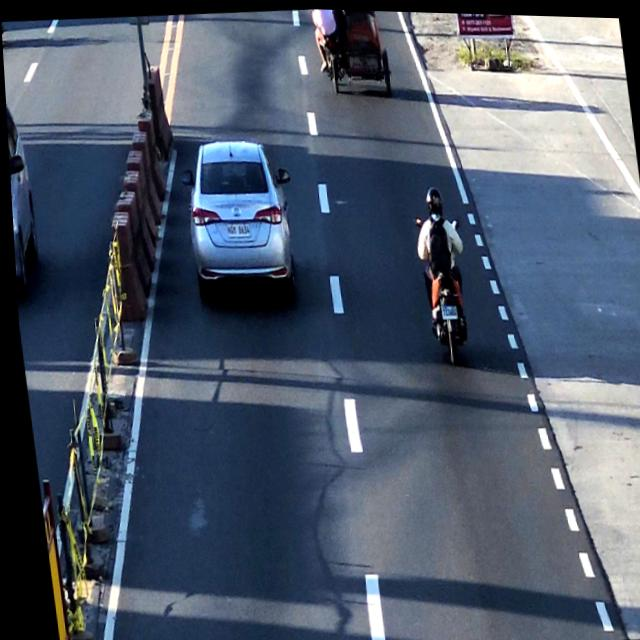Car: (173, 130, 297, 315)
License-Plate: (222, 218, 249, 239), (435, 299, 456, 320)
Motorcycle: (407, 185, 468, 358)
Tricycle: (314, 7, 394, 90)
